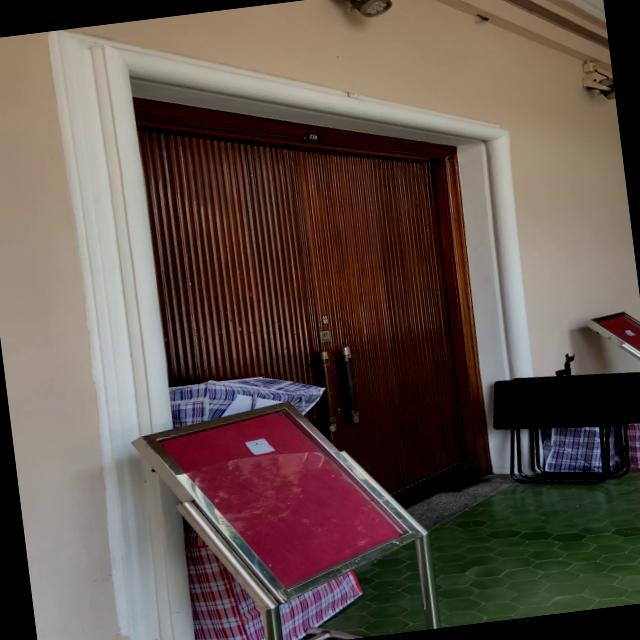room218: (302, 130, 322, 143)
